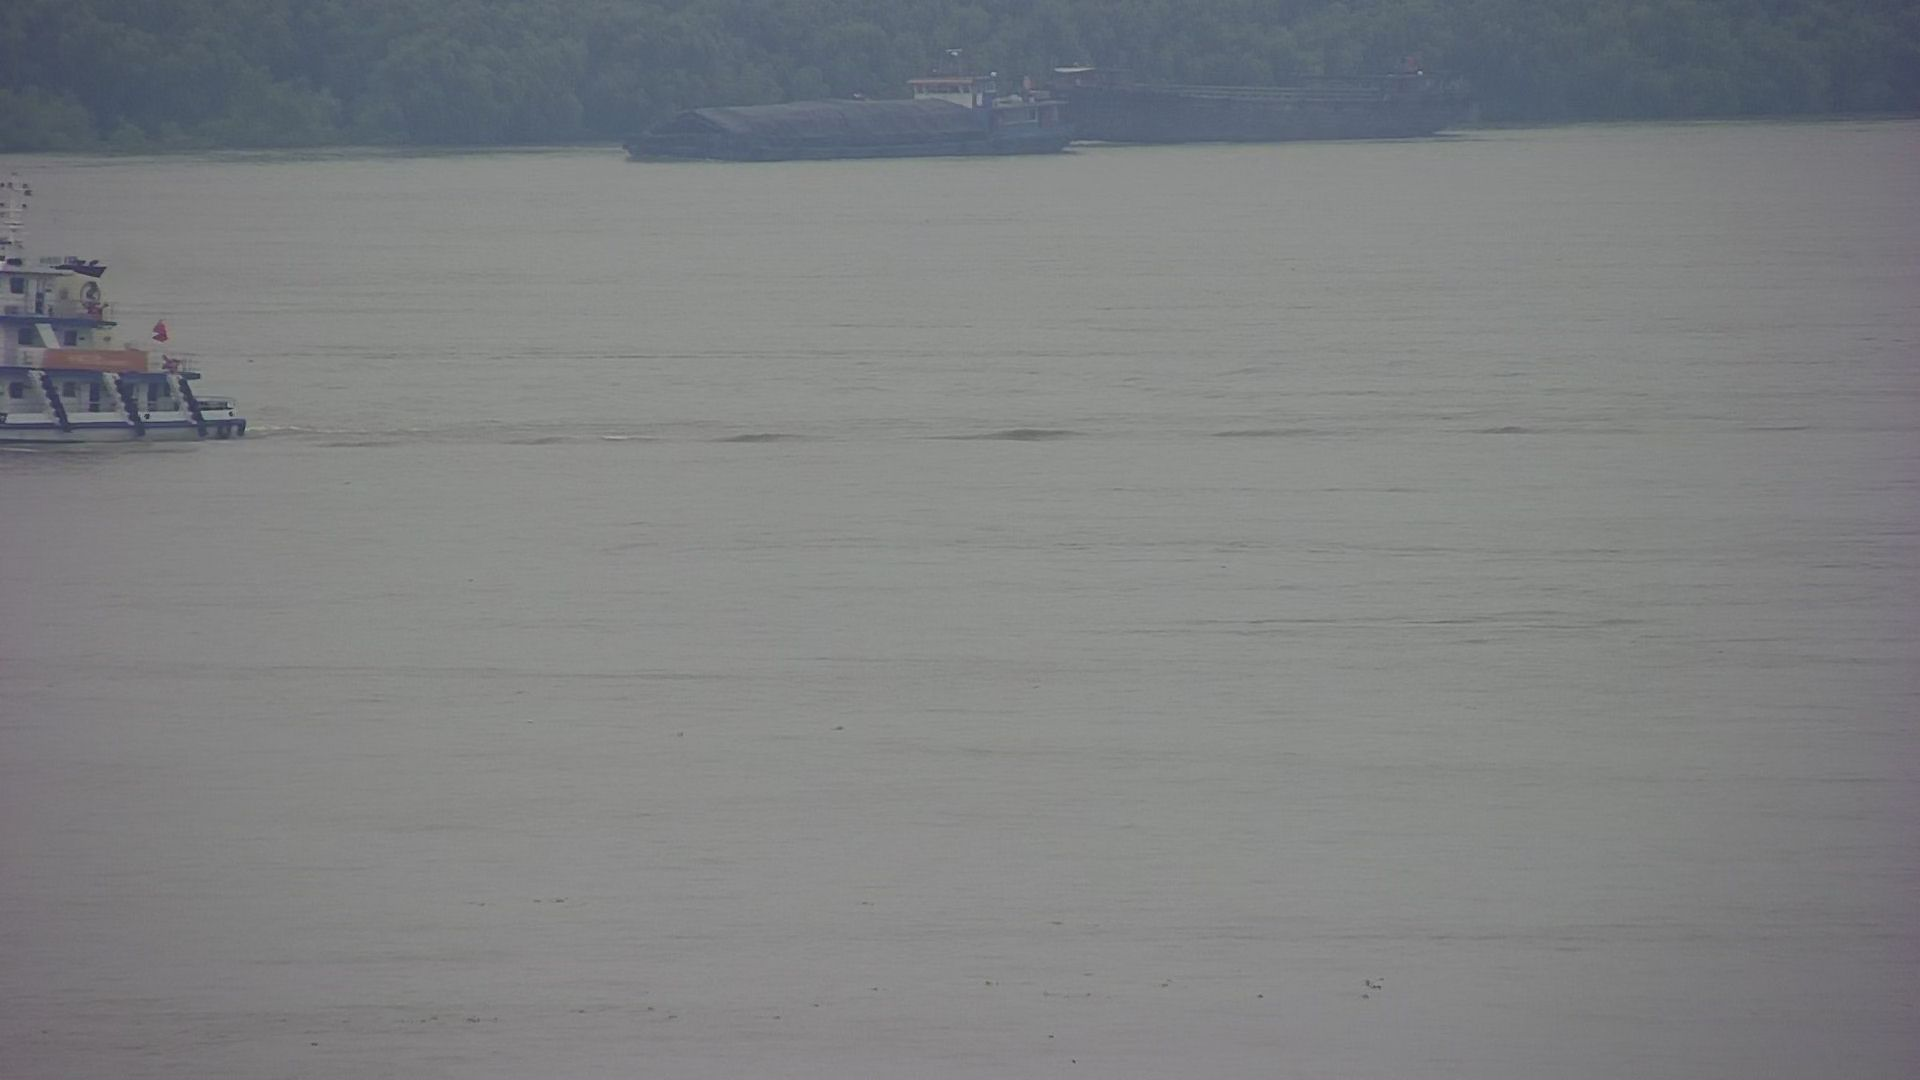ship: (1, 160, 289, 463), (620, 55, 1072, 164), (1065, 46, 1477, 148)
